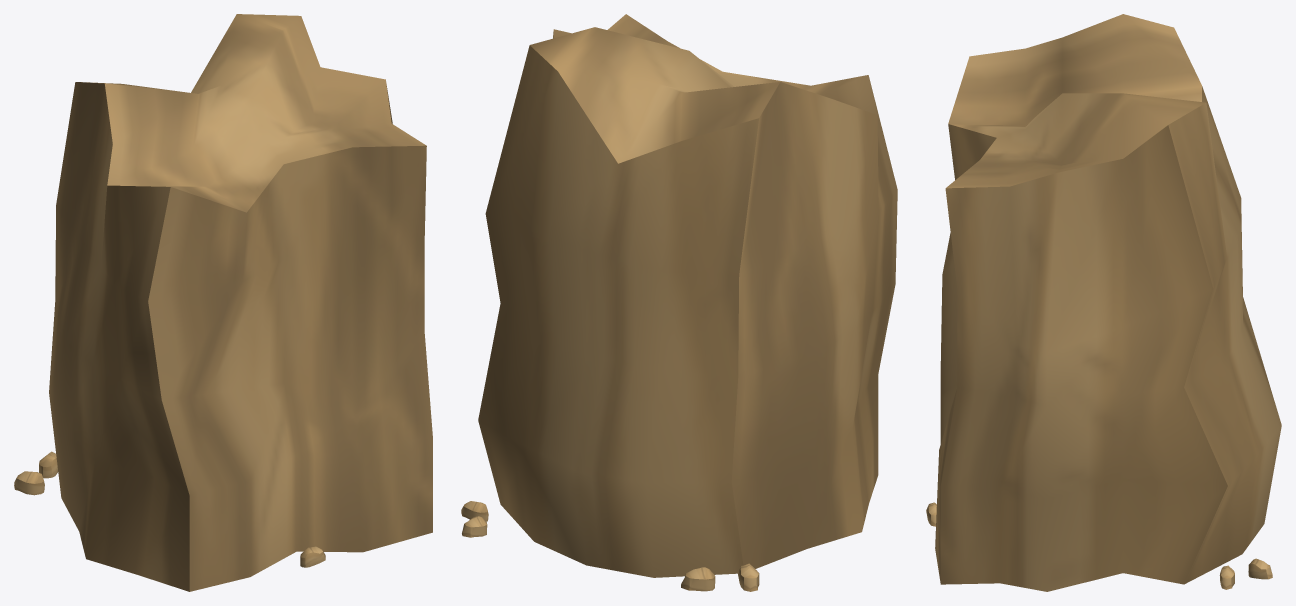
The model's file is m_env_roche_1_big 1.FBX.
The picture shows the model from 3 angles, left to right: view 1: azimuth 30°, elevation 25°; view 2: azimuth 150°, elevation 25°; view 3: azimuth 270°, elevation 25°; orthographic projection. The views are drawn at different scales.
Visible parts, largest first — view 1: Box013; view 2: Box013; view 3: Box013.
Part boxes in pixels (left/top/right/bottom): Box013: left=14, top=14, right=432, bottom=591; Box013: left=461, top=14, right=897, bottom=591; Box013: left=926, top=14, right=1281, bottom=591.
Bounding box in the file's own units: 103 × 95.62 × 137.
